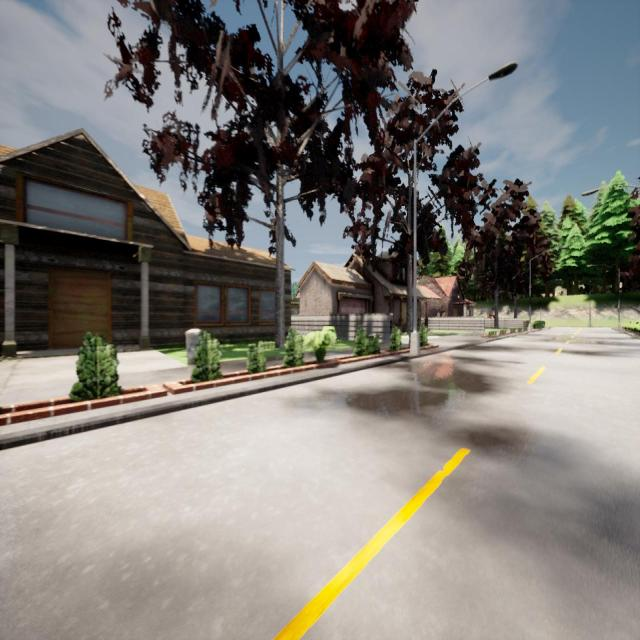traffic_light: (618, 306, 620, 312)
